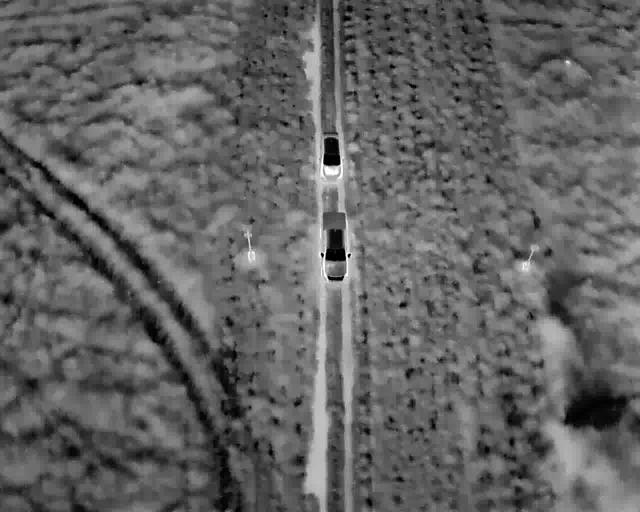car: (317, 210, 352, 283), (317, 130, 345, 183)
